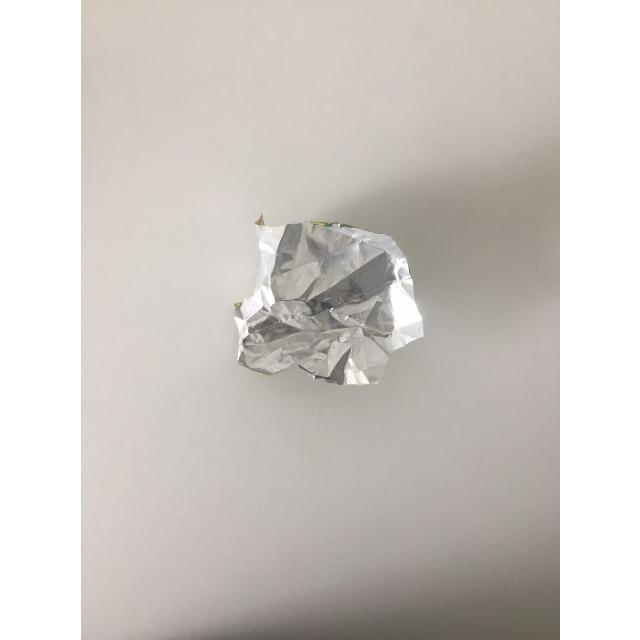Paquete de plastico: (233, 216, 424, 387)
